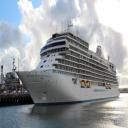cruises: (16, 20, 122, 109)
